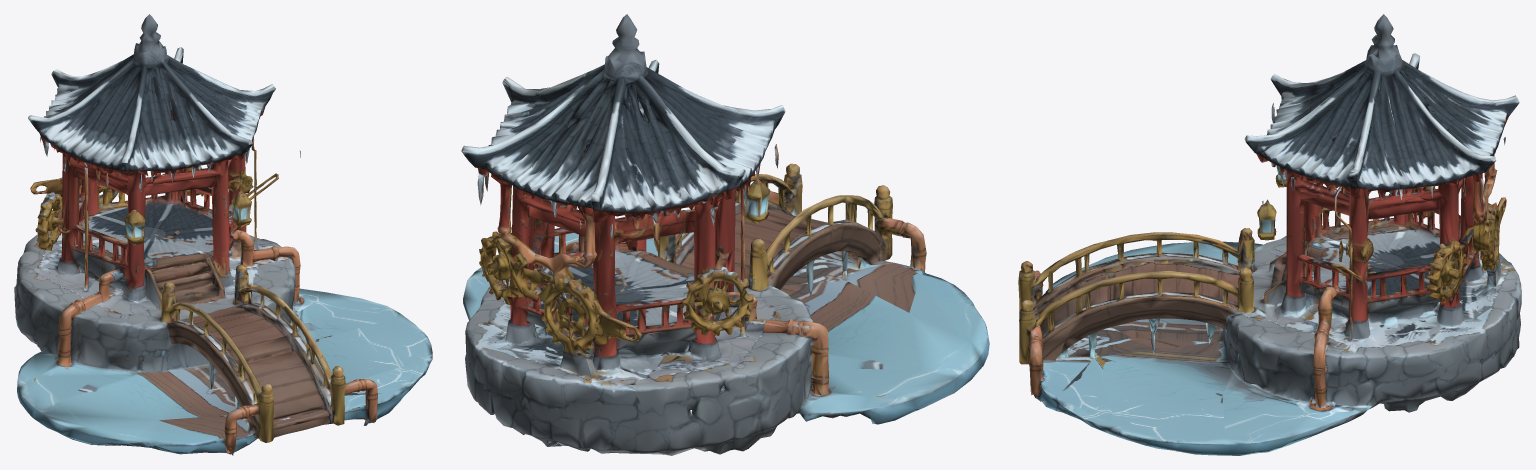
File: NMJ_Hyangwonjeong.fbx
3 views of the same model, side by side, from view 1: azimuth 30°, elevation 25°; view 2: azimuth 150°, elevation 25°; view 3: azimuth 270°, elevation 25° (orthographic). The views are drawn at different scales.
Visible parts, largest first — view 1: NMJ_Hyangwonjeong; view 2: NMJ_Hyangwonjeong; view 3: NMJ_Hyangwonjeong.
Boxes of the visible parts, x1,y1,x2,y2 form: NMJ_Hyangwonjeong: (14, 14, 432, 455); NMJ_Hyangwonjeong: (461, 14, 989, 455); NMJ_Hyangwonjeong: (1018, 14, 1521, 455).
Bounding box in the file's own units: 20.47 × 16.5 × 21.46.
